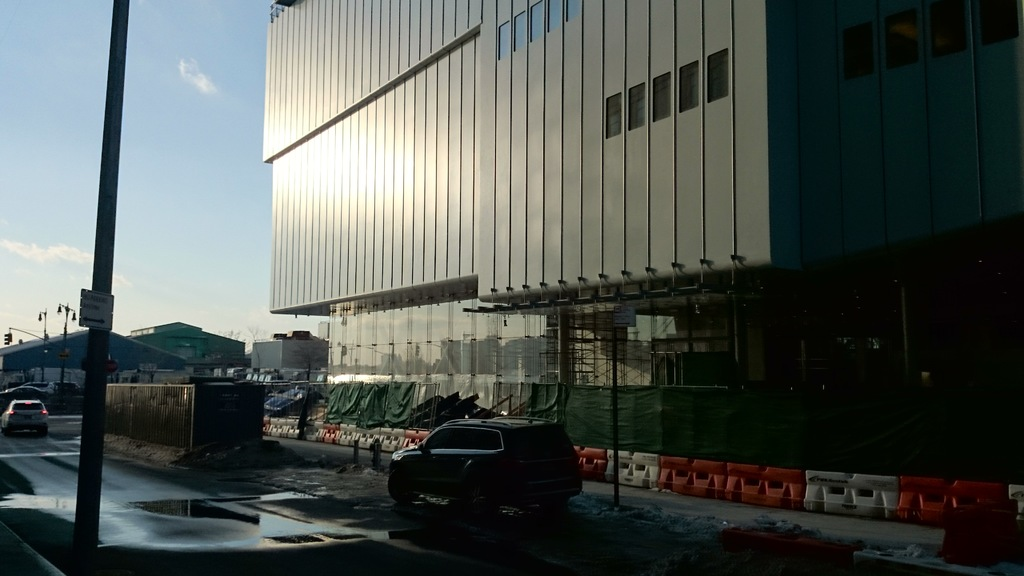mobil: (383, 416, 580, 528)
